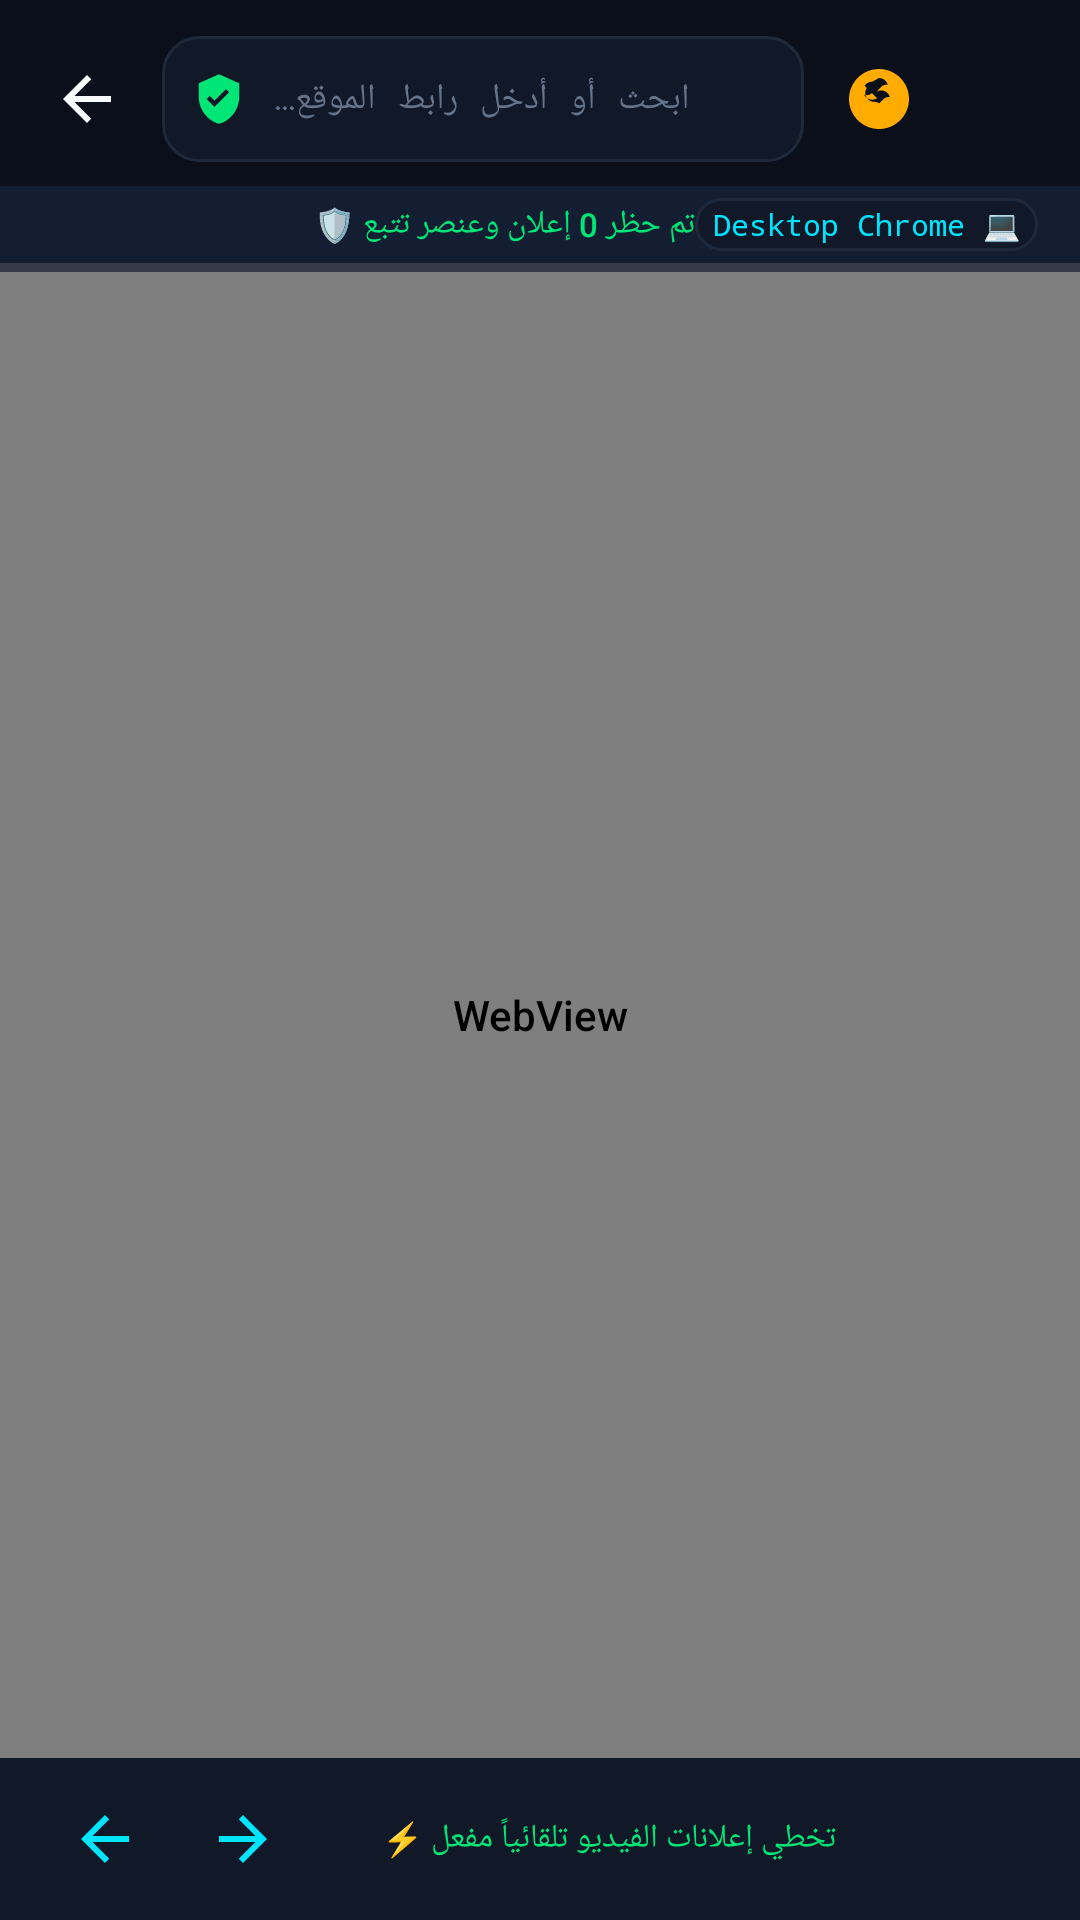

Icon bounding boxes for this 1080 × 1920 phone screenshot, format (x1, y1, x2, y2):
shield protected: (198, 74, 240, 124)
السابق: (81, 1815, 129, 1863)
رجوع: (63, 75, 111, 123)
